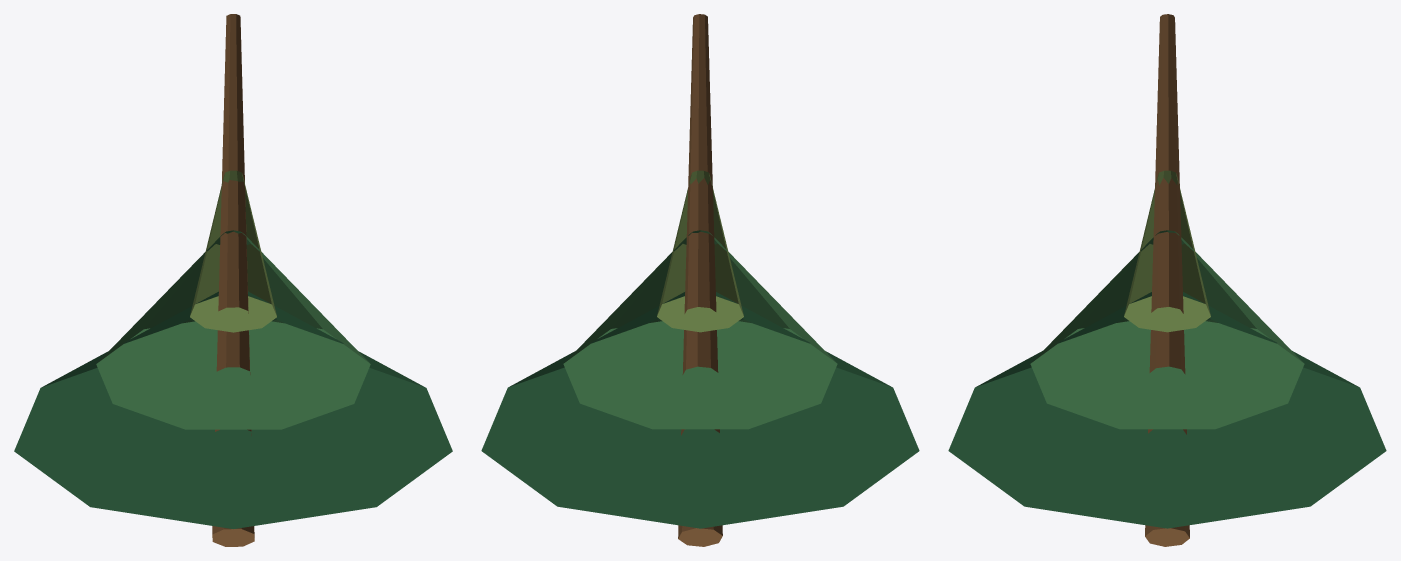
File: vegetation-sapling-02.glb
The picture shows the model from 3 angles, left to right: view 1: azimuth 30°, elevation 25°; view 2: azimuth 150°, elevation 25°; view 3: azimuth 270°, elevation 25°; orthographic projection.
Visible parts, largest first — view 1: vegetation-sapling-02; view 2: vegetation-sapling-02; view 3: vegetation-sapling-02.
Boxes of the visible parts, x1,y1,x2,y2 form: vegetation-sapling-02: [14, 14, 452, 546]; vegetation-sapling-02: [481, 14, 919, 546]; vegetation-sapling-02: [948, 14, 1386, 546].
Bounding box in the file's own units: 0.6789 × 0.903 × 0.6894.
